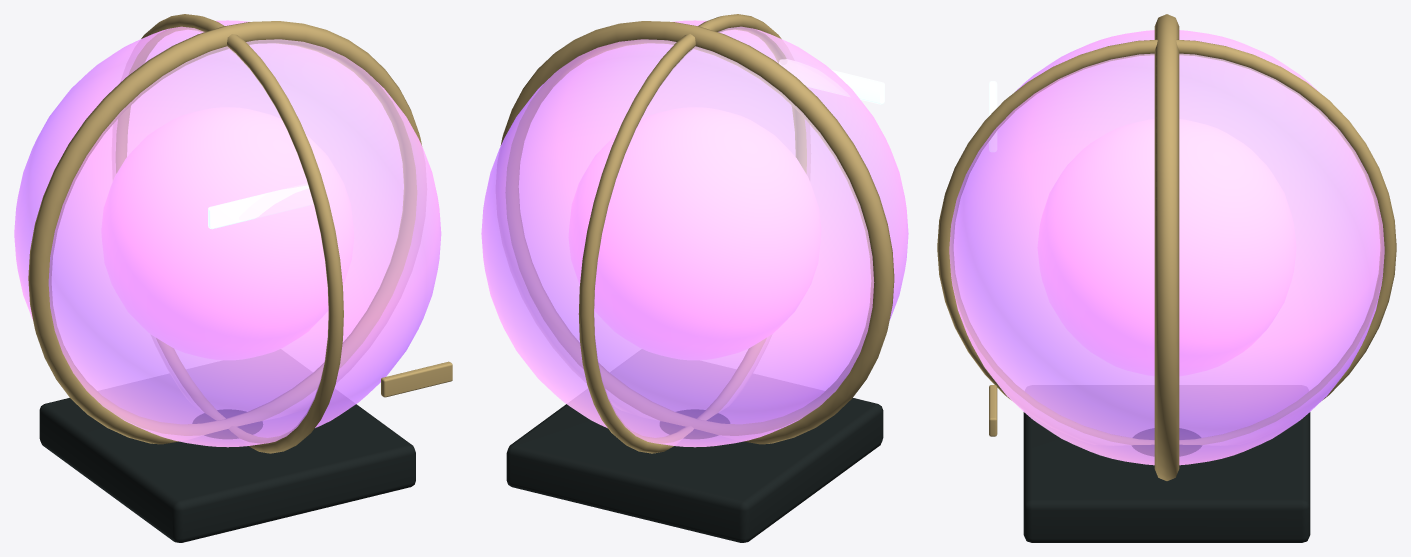
File: age_museum_puzzle_orb_purple.glb
3 views of the same model, side by side, from view 1: azimuth 30°, elevation 25°; view 2: azimuth 150°, elevation 25°; view 3: azimuth 270°, elevation 25° (orthographic). The views are drawn at different scales.
Parts seen in each view (by area): view 1: puzzle_orb_purple_outer_glass, puzzle_orb_purple_core, puzzle_orb_purple_base_socket, puzzle_orb_purple_equator_brass, puzzle_orb_purple_vertical_brass, puzzle_orb_purple_cyan_reflection_plate, puzzle_orb_purple_small_accession_tag; view 2: puzzle_orb_purple_outer_glass, puzzle_orb_purple_core, puzzle_orb_purple_base_socket, puzzle_orb_purple_equator_brass, puzzle_orb_purple_vertical_brass, puzzle_orb_purple_cyan_reflection_plate; view 3: puzzle_orb_purple_outer_glass, puzzle_orb_purple_core, puzzle_orb_purple_base_socket, puzzle_orb_purple_vertical_brass, puzzle_orb_purple_equator_brass.
Boxes of the visible parts, box(x1,y1,x2,y2) form: puzzle_orb_purple_outer_glass: box(14, 20, 441, 447); puzzle_orb_purple_core: box(101, 107, 353, 359); puzzle_orb_purple_base_socket: box(39, 398, 415, 542); puzzle_orb_purple_equator_brass: box(28, 21, 421, 444); puzzle_orb_purple_vertical_brass: box(115, 14, 343, 453); puzzle_orb_purple_cyan_reflection_plate: box(208, 183, 312, 229); puzzle_orb_purple_small_accession_tag: box(381, 361, 452, 397); puzzle_orb_purple_outer_glass: box(481, 20, 908, 447); puzzle_orb_purple_core: box(568, 107, 821, 359); puzzle_orb_purple_base_socket: box(506, 398, 883, 542); puzzle_orb_purple_equator_brass: box(500, 21, 894, 444); puzzle_orb_purple_vertical_brass: box(578, 14, 806, 453); puzzle_orb_purple_cyan_reflection_plate: box(779, 59, 884, 104); puzzle_orb_purple_outer_glass: box(949, 30, 1384, 465); puzzle_orb_purple_core: box(1037, 119, 1296, 375); puzzle_orb_purple_base_socket: box(1023, 412, 1310, 542); puzzle_orb_purple_vertical_brass: box(937, 39, 1396, 444); puzzle_orb_purple_equator_brass: box(1154, 14, 1179, 480).
Bounding box in the file's own units: 0.686 × 0.728 × 0.674.
